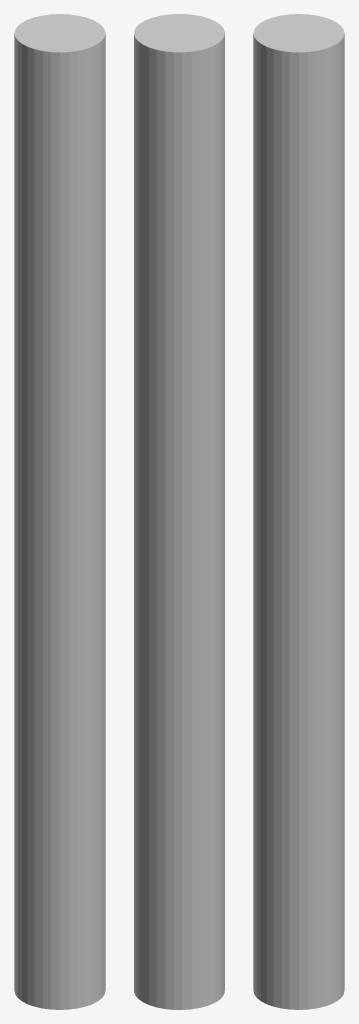
File: paloDisco.obj
The picture shows the model from 3 angles, left to right: view 1: azimuth 90°, elevation 25°; view 2: azimuth 150°, elevation 25°; view 3: azimuth 270°, elevation 25°; orthographic projection.
Visible parts, largest first — view 1: paloBolaDisco_Mesh; view 2: paloBolaDisco_Mesh; view 3: paloBolaDisco_Mesh.
Part boxes in pixels (<box>): paloBolaDisco_Mesh: <box>14,14,105,1009</box>; paloBolaDisco_Mesh: <box>134,14,224,1009</box>; paloBolaDisco_Mesh: <box>253,14,344,1009</box>.
Size of the model in its own units: 0.1088 by 1.26 by 0.1088.
Materials: 1 (1 with a texture image).
